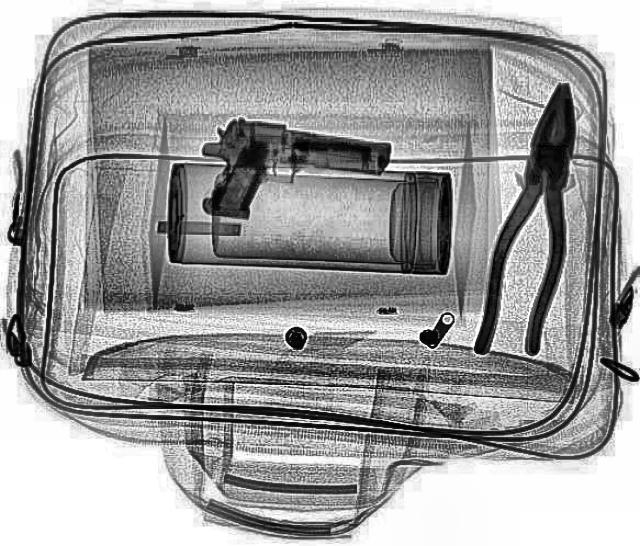Gun: (184, 112, 396, 236)
Pliers: (472, 78, 596, 360)
